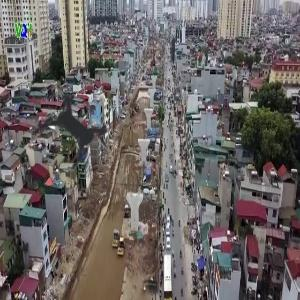drone: (4, 60, 150, 206)
